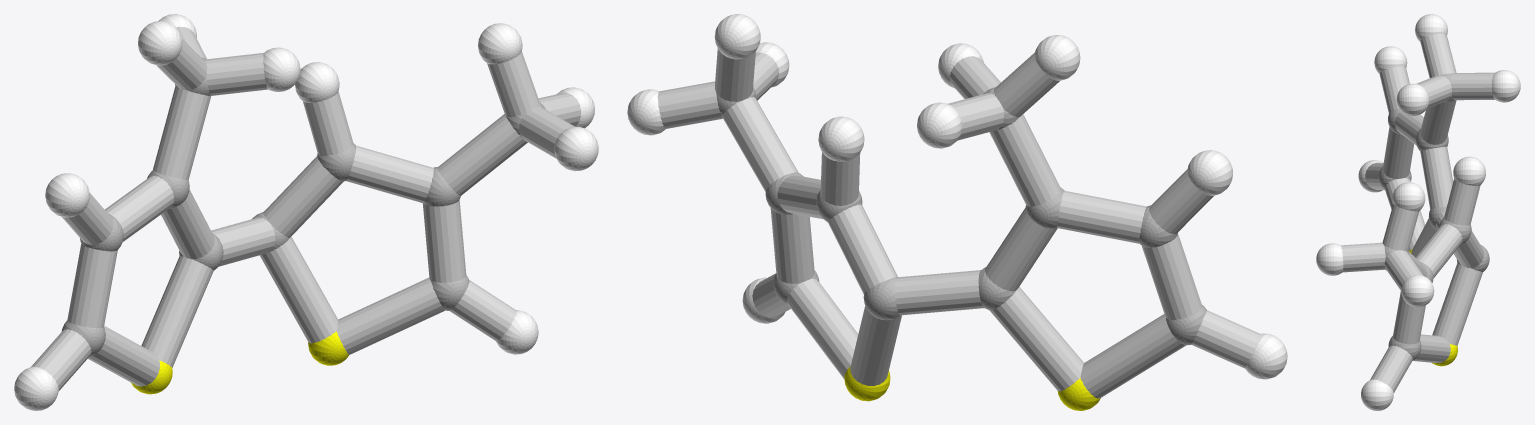
The model's file is Methylthiophene_Phi_50_Theta_180_Methylthiophene.glb.
3 renders of one model, left to right at view 1: azimuth 30°, elevation 25°; view 2: azimuth 150°, elevation 25°; view 3: azimuth 270°, elevation 25°, orthographic. The views are drawn at different scales.
Visible parts, largest first — view 1: grp7965, grp3621, grp1, grp7241; view 2: grp7965, grp3621, grp1, grp7241; view 3: grp7965, grp3621, grp1, grp7241.
Part boxes in pixels (bbox=[...]): grp7965: bbox=[31, 26, 581, 391]; grp3621: bbox=[14, 14, 598, 410]; grp1: bbox=[61, 57, 545, 356]; grp7241: bbox=[131, 331, 348, 394]; grp7965: bbox=[657, 48, 1260, 398]; grp3621: bbox=[627, 14, 1287, 379]; grp1: bbox=[716, 87, 1206, 345]; grp7241: bbox=[844, 366, 1100, 410]; grp7965: bbox=[1341, 33, 1494, 392]; grp3621: bbox=[1316, 14, 1520, 410]; grp1: bbox=[1378, 73, 1489, 360]; grp7241: bbox=[1409, 249, 1457, 366].
Size of the model in its own units: 9.36 by 5.75 by 3.73.
